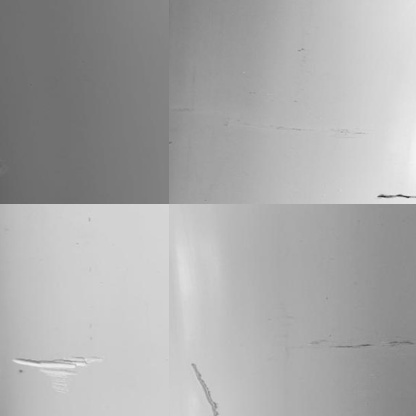fengxi: (375, 191, 413, 201)
sunshang: (11, 350, 102, 395), (186, 361, 221, 413)
